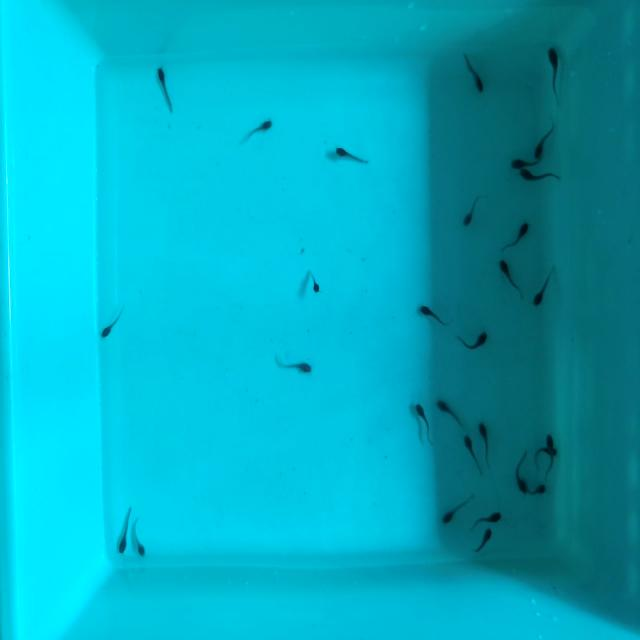lele: (499, 218, 534, 254), (440, 493, 476, 527), (459, 51, 487, 94), (529, 266, 556, 310), (545, 41, 564, 102), (433, 395, 467, 428), (494, 257, 522, 297), (241, 114, 276, 145), (460, 432, 484, 477), (532, 117, 557, 160), (155, 63, 176, 113), (460, 190, 486, 230), (465, 506, 503, 533), (97, 309, 127, 342), (412, 399, 435, 442), (332, 142, 369, 167), (470, 525, 496, 560), (476, 417, 494, 466), (275, 354, 314, 376), (418, 301, 447, 329), (117, 506, 133, 554), (514, 446, 529, 497), (459, 330, 490, 351), (518, 167, 560, 182), (131, 523, 147, 558), (510, 155, 546, 169), (306, 266, 322, 296), (545, 431, 554, 475), (526, 483, 549, 497), (532, 445, 560, 455)
